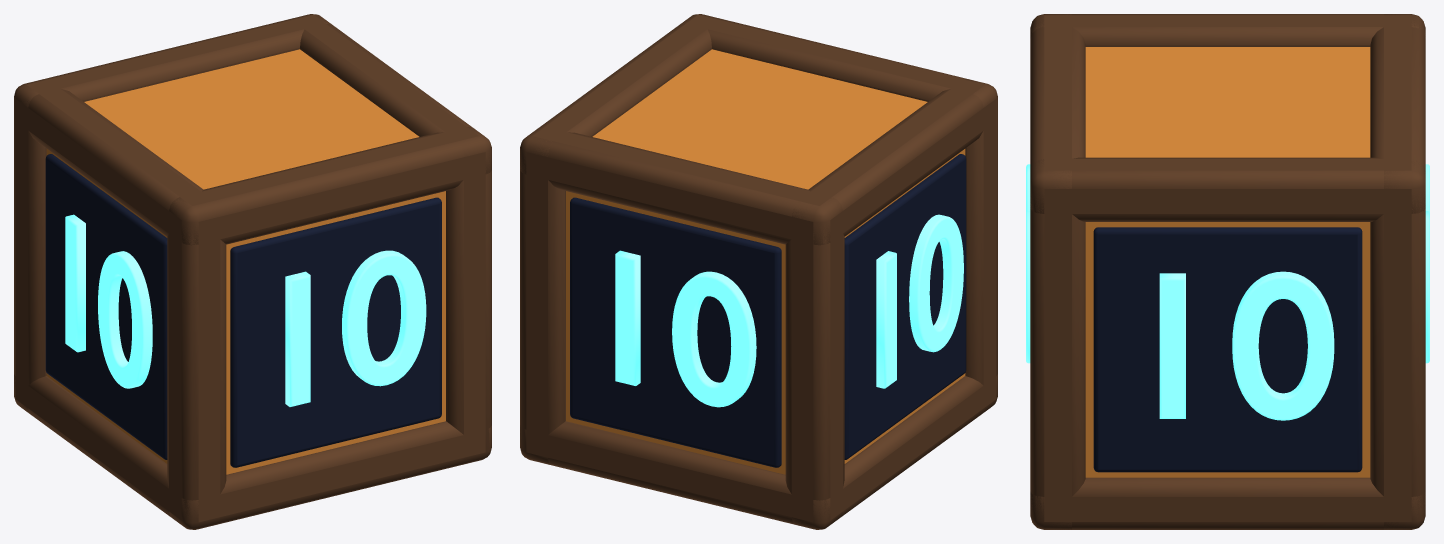
File: crate.glb
The picture shows the model from 3 angles, left to right: view 1: azimuth 30°, elevation 25°; view 2: azimuth 150°, elevation 25°; view 3: azimuth 270°, elevation 25°; orthographic projection. The views are drawn at different scales.
Parts seen in each view (by area): view 1: TenCrate; view 2: TenCrate; view 3: TenCrate.
Boxes of the visible parts, box(x1,y1,x2,y2) form: TenCrate: box(14, 14, 491, 529); TenCrate: box(520, 14, 997, 529); TenCrate: box(1026, 14, 1429, 529).
Bounding box in the file's own units: 1.02 × 1 × 1.02.
